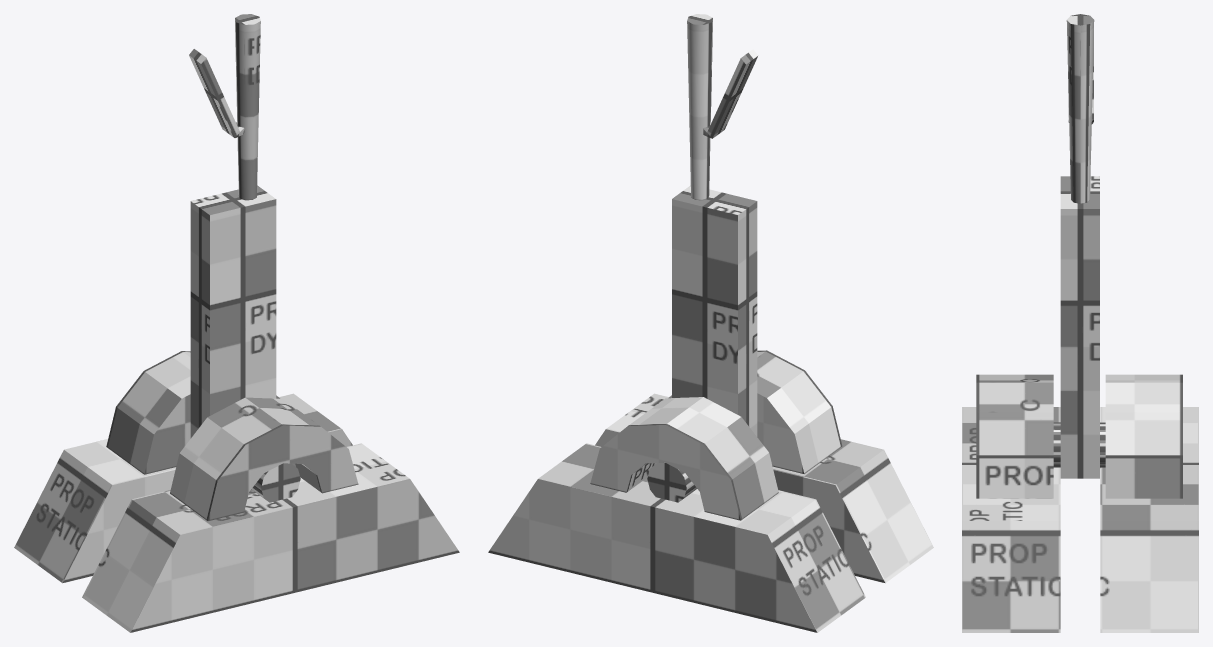
The model's file is LM_MechanicalLever.fbx.
3 views of the same model, side by side, from view 1: azimuth 30°, elevation 25°; view 2: azimuth 150°, elevation 25°; view 3: azimuth 270°, elevation 25° (orthographic).
Visible parts, largest first — view 1: Cube_Clone_, Cube_1, Arch_Clone_, Cube, Arch, Cylinder_1, Cube_2, Cylinder; view 2: Cube, Cube_1, Arch, Cube_Clone_, Arch_Clone_, Cylinder_1, Cube_2, Cylinder; view 3: Cube_Clone_, Cube, Cube_1, Arch_Clone_, Arch, Cylinder_1, Cylinder.
Boxes of the visible parts, x1,y1,x2,y2 form: Cube_Clone_: (82, 443, 459, 632); Cube_1: (190, 185, 276, 438); Arch_Clone_: (170, 397, 358, 520); Cube: (14, 393, 352, 583); Arch: (106, 351, 279, 474); Cylinder_1: (235, 14, 260, 200); Cube_2: (189, 49, 244, 137); Cylinder: (251, 463, 300, 502); Cube: (488, 443, 865, 632); Cube_1: (672, 185, 757, 436); Arch: (590, 397, 778, 520); Cube_Clone_: (595, 393, 933, 583); Arch_Clone_: (668, 350, 842, 473); Cylinder_1: (687, 14, 712, 200); Cube_2: (703, 49, 758, 138); Cylinder: (647, 462, 697, 502); Cube_Clone_: (962, 407, 1060, 632); Cube: (1100, 407, 1198, 632); Cube_1: (1060, 176, 1099, 478); Arch_Clone_: (976, 374, 1053, 498); Arch: (1105, 374, 1182, 498); Cylinder_1: (1066, 14, 1094, 203); Cylinder: (1053, 422, 1105, 467).
Size of the model in its own units: 100 by 153 by 61.2.
